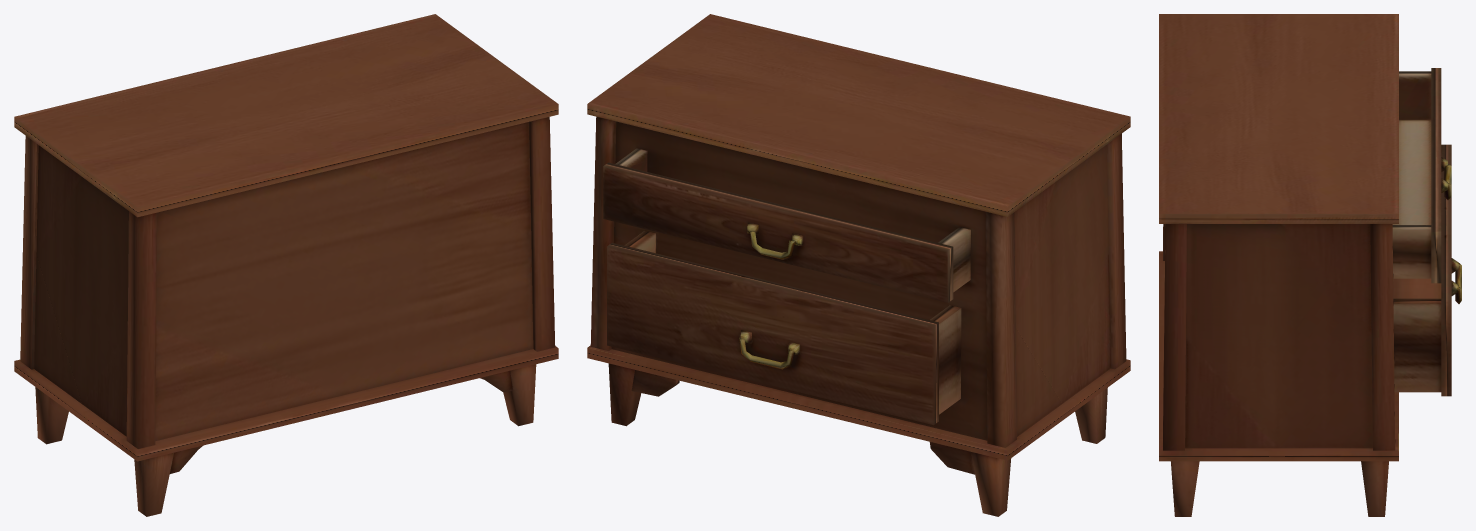
File: Furn_Sideboard_Bedside.fbx
3 renders of one model, left to right at view 1: azimuth 30°, elevation 25°; view 2: azimuth 150°, elevation 25°; view 3: azimuth 270°, elevation 25°, orthographic. The views are drawn at different scales.
Visible parts, largest first — view 1: Furn_Sideboard_Bedside_Body; view 2: Furn_Sideboard_Bedside_Body, Furn_Sideboard_Bedside_Bottom, Furn_Sideboard_Bedside_Top; view 3: Furn_Sideboard_Bedside_Body, Furn_Sideboard_Bedside_Top, Furn_Sideboard_Bedside_Bottom.
Boxes of the visible parts, x1,y1,x2,y2 form: Furn_Sideboard_Bedside_Body: (14,14,558,516); Furn_Sideboard_Bedside_Body: (587,14,1130,516); Furn_Sideboard_Bedside_Bottom: (607,230,961,425); Furn_Sideboard_Bedside_Top: (603,148,970,302); Furn_Sideboard_Bedside_Body: (1159,14,1398,516); Furn_Sideboard_Bedside_Top: (1392,68,1451,283); Furn_Sideboard_Bedside_Bottom: (1393,144,1461,396).
Bounding box in the file's own units: 103 × 75 × 66.11.
Materials: 1 (1 with a texture image).
